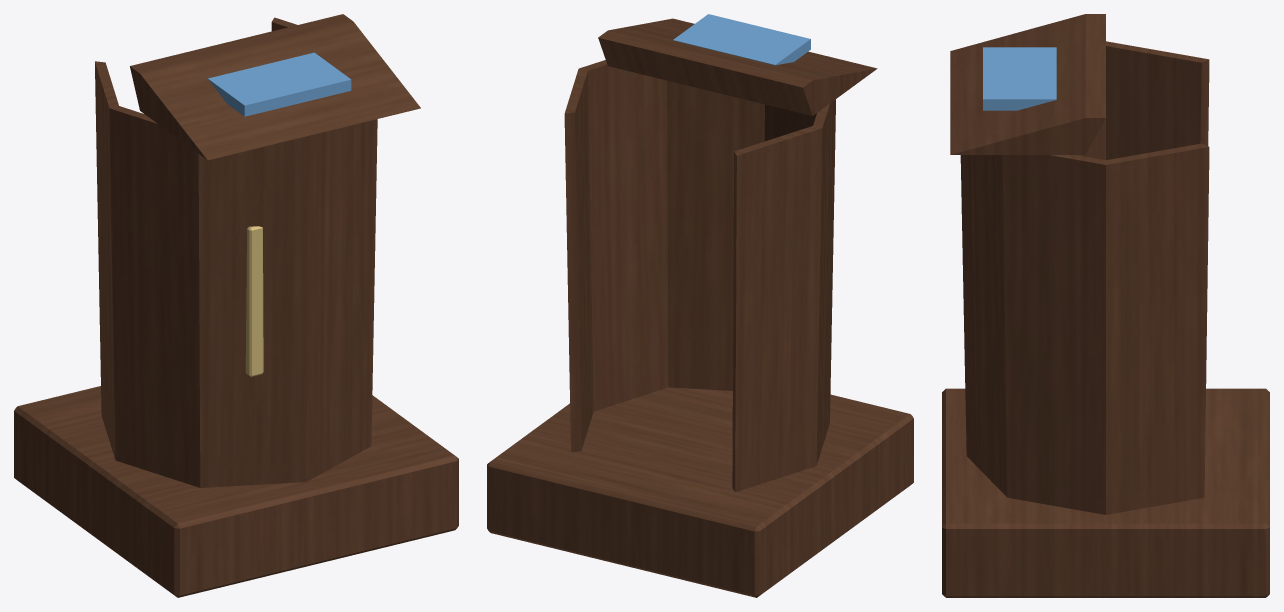
Rendered from pulpito.glb.
The picture shows the model from 3 angles, left to right: view 1: azimuth 30°, elevation 25°; view 2: azimuth 150°, elevation 25°; view 3: azimuth 270°, elevation 25°; orthographic projection. The views are drawn at different scales.
Visible parts, largest first — view 1: pulpito_madeira_escura, pulpito_cartela, pulpito_ouro_velho; view 2: pulpito_madeira_escura, pulpito_cartela; view 3: pulpito_madeira_escura, pulpito_cartela.
Part boxes in pixels (box(x1,y1,x2,y2)): pulpito_madeira_escura: box(14, 14, 458, 597); pulpito_cartela: box(208, 52, 351, 116); pulpito_ouro_velho: box(245, 226, 263, 376); pulpito_madeira_escura: box(487, 18, 913, 597); pulpito_cartela: box(673, 14, 810, 65); pulpito_madeira_escura: box(942, 14, 1269, 597); pulpito_cartela: box(983, 47, 1056, 110).
Bounding box in the file's own units: 0.8 × 1.25 × 0.8.
Materials: 3 (1 with a texture image).
